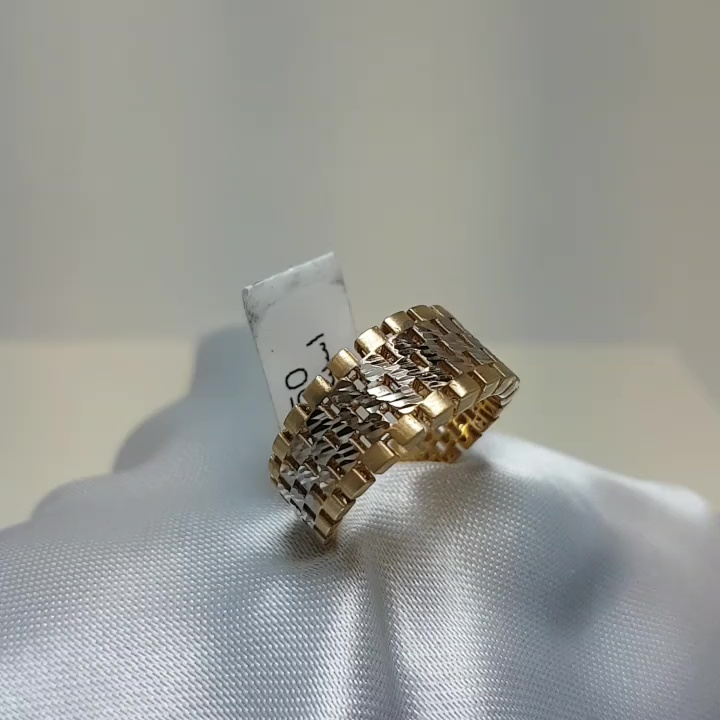Ring 1: (224, 293, 542, 585)
